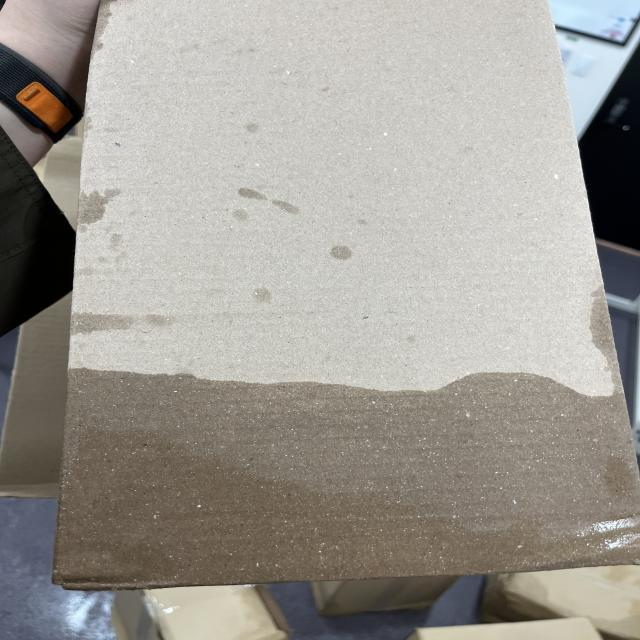wet: (48, 357, 638, 571)
